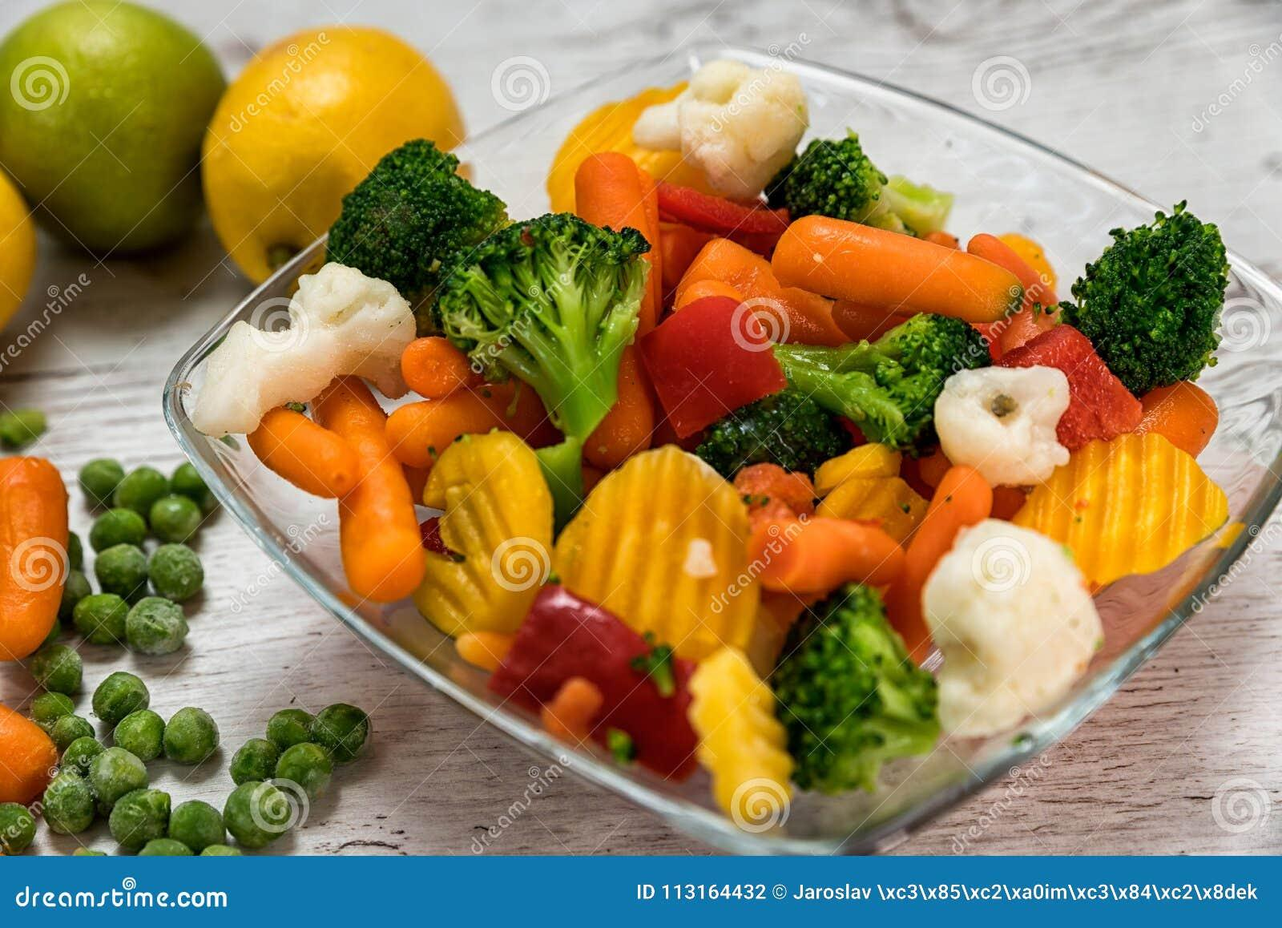broccoli: (434, 215, 654, 450), (694, 313, 995, 482), (1056, 207, 1230, 395)
brocolli: (769, 590, 942, 790)
carrot: (769, 217, 1027, 333), (0, 458, 70, 666), (249, 405, 365, 500), (0, 703, 61, 806)
peas: (83, 456, 240, 649)
